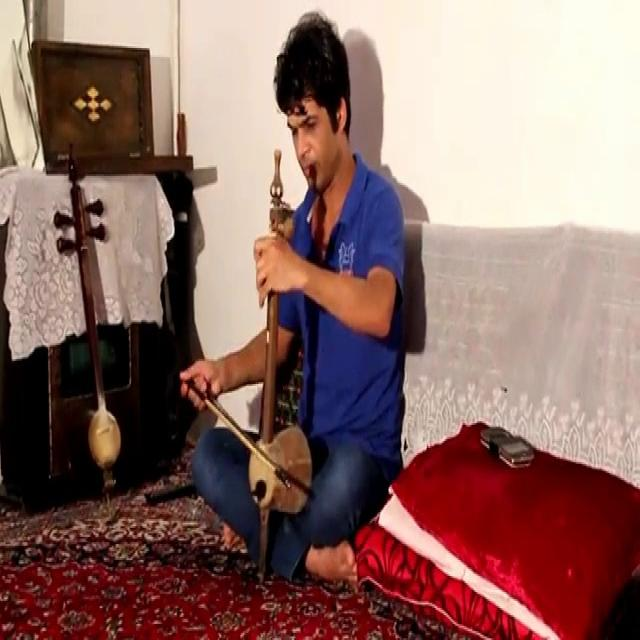Guitar: (247, 144, 312, 533)
